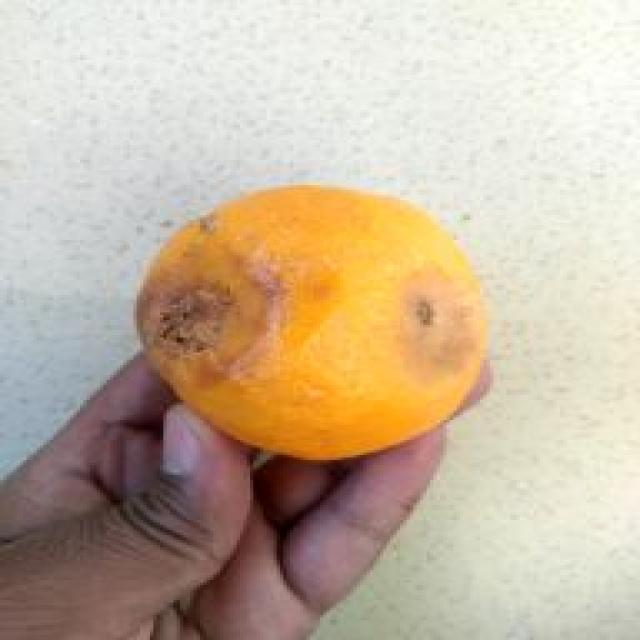Bad_Orange: (137, 185, 487, 459)
